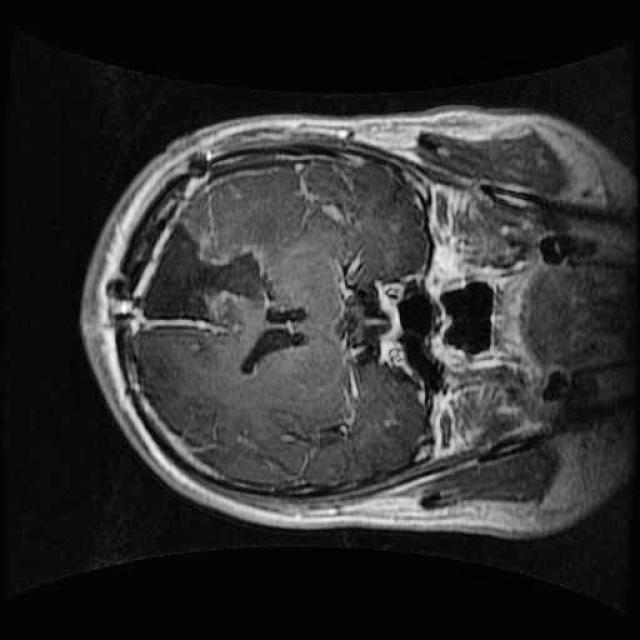Tumor: (109, 204, 227, 348)
